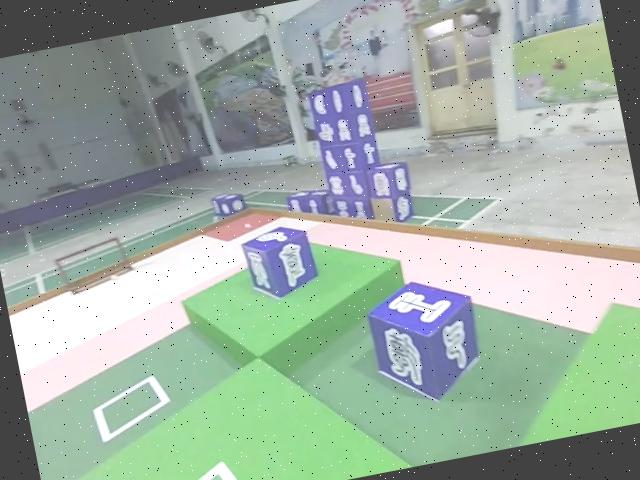R2 Fake Blue: (363, 274, 492, 415), (239, 222, 321, 306)
